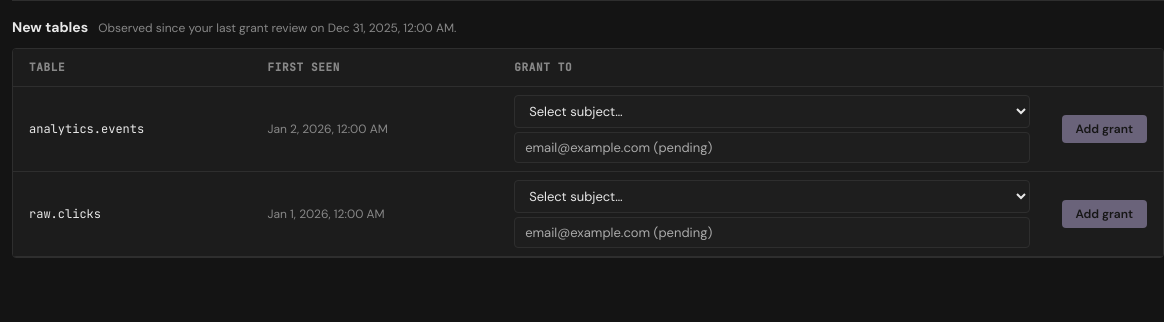
Scenario: NewTablesInbox › shows the API error when creating a grant fails
expect the text "analytics.events" is shown: met, box [29,121,144,137]
Select "Everyone" in the dropdown named "Subject for analytics.events": {"x": 772, "y": 111} [514,94,1030,128]
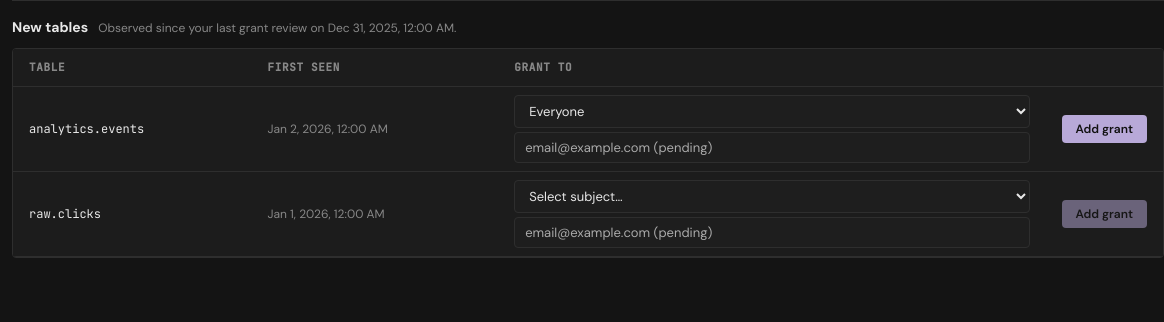
Click the button "Add grant" in the row of "analytics": {"x": 1104, "y": 128} [1062,114,1147,142]
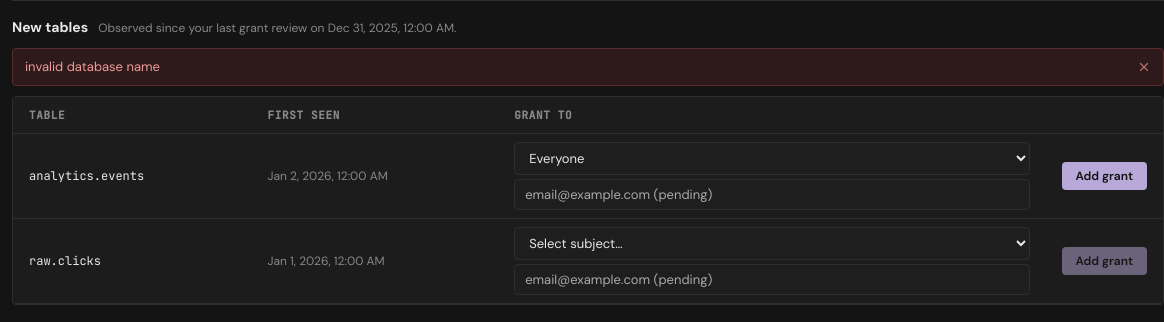
expect the text "invalid database name" is shown: met, box [25,58,160,75]
